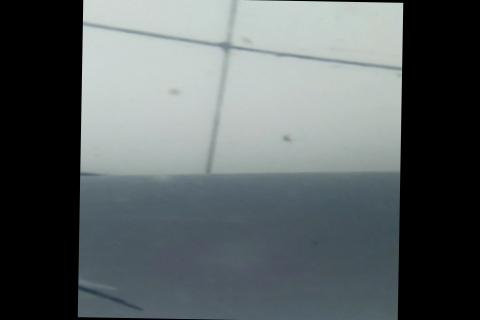keretakan: (77, 272, 146, 313)
